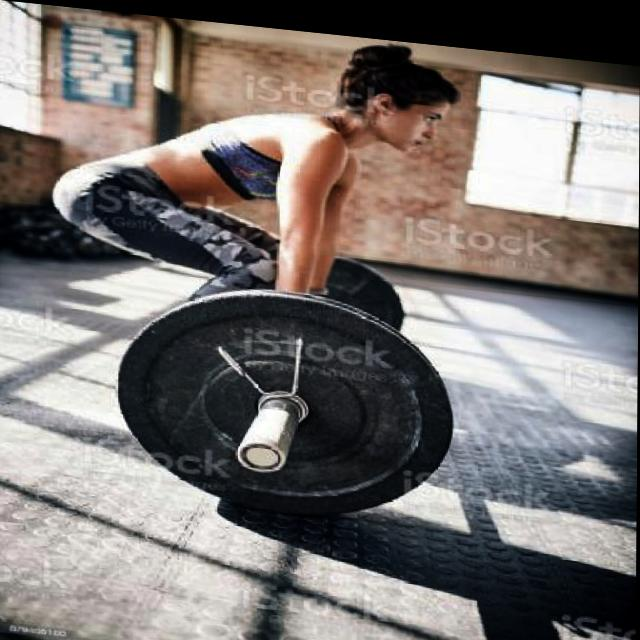barbell: (112, 267, 466, 538)
